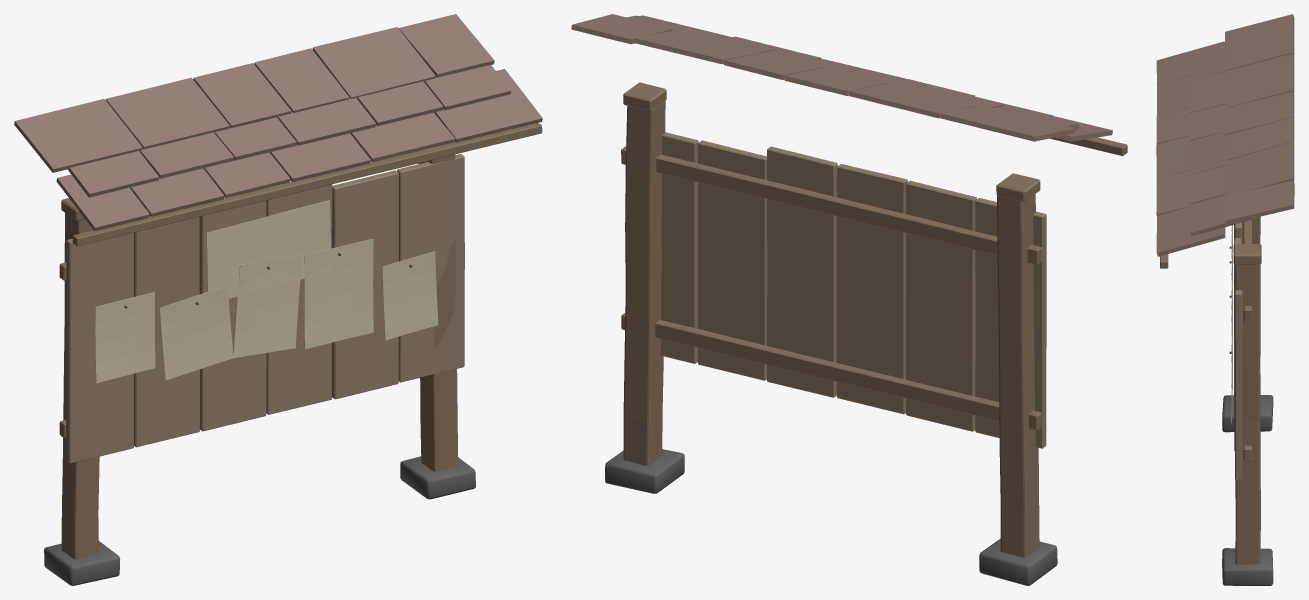
Rendered from board.glb.
3 renders of one model, left to right at view 1: azimuth 30°, elevation 25°; view 2: azimuth 150°, elevation 25°; view 3: azimuth 270°, elevation 25°, orthographic. The views are drawn at different scales.
Parts seen in each view (by area): view 1: board; view 2: board; view 3: board.
Part boxes in pixels (x1,y1,x2,y2): board: (14, 14, 542, 585); board: (571, 14, 1127, 585); board: (1156, 14, 1294, 585).
Size of the model in its own units: 3.4 by 3.09 by 0.989.
